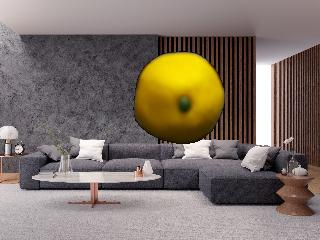lemon: (134, 53, 225, 143)
